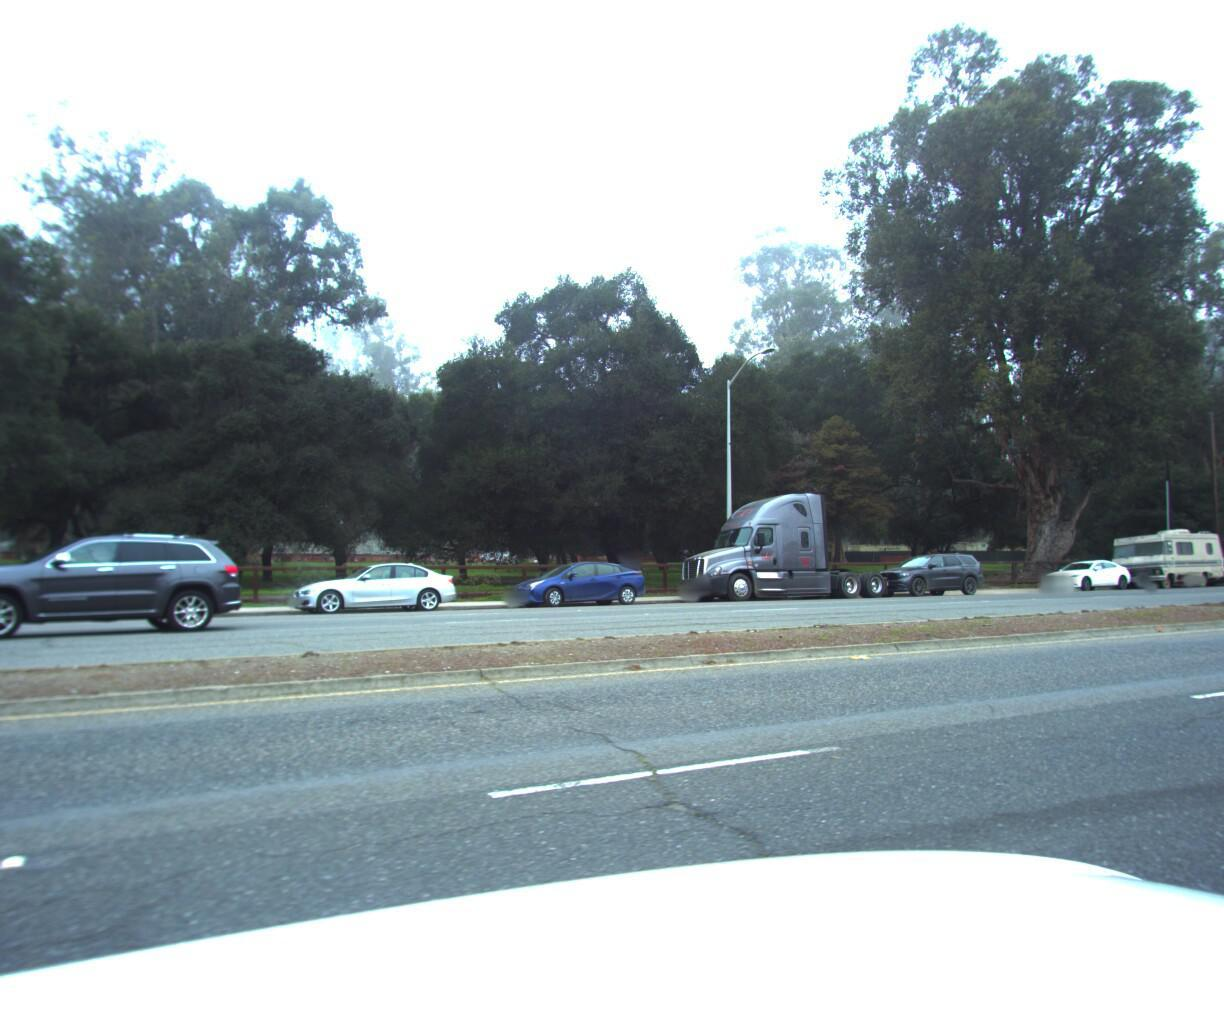car: (0, 531, 250, 664), (283, 558, 464, 621), (500, 556, 651, 614), (863, 547, 986, 599), (1027, 553, 1130, 590)
other_vehicle: (1092, 522, 1223, 588)
truck: (662, 481, 891, 605)
